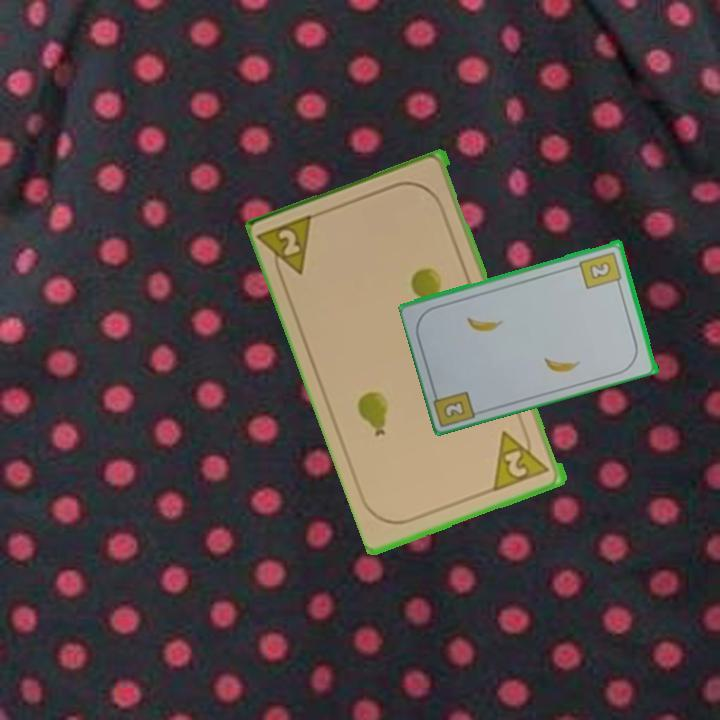2b: (576, 248, 625, 291), (440, 397, 468, 421)
2p: (257, 210, 320, 286), (490, 422, 553, 494)
